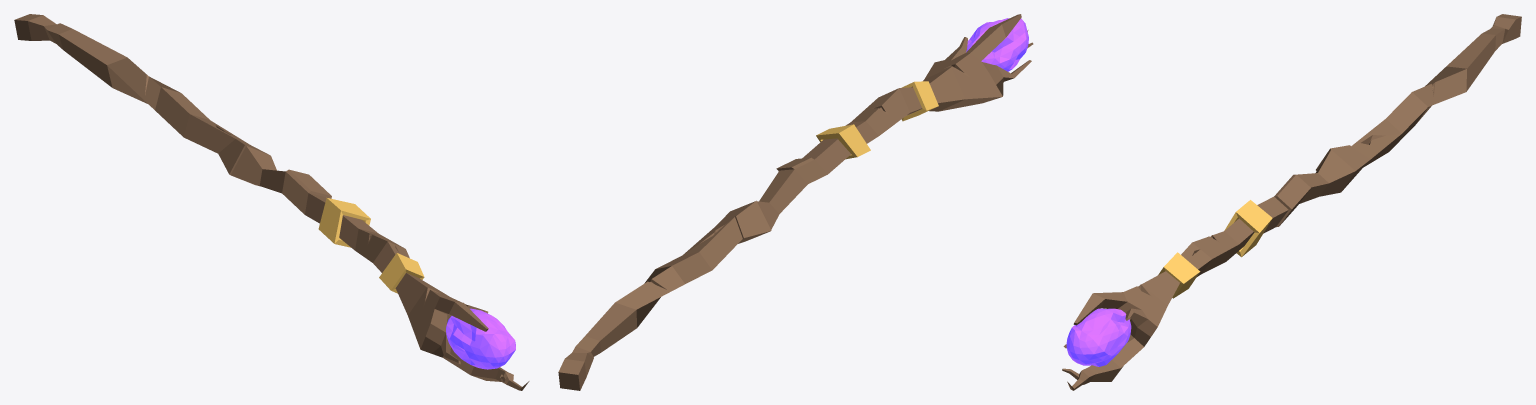
File: Wizard Staff.fbx
3 renders of one model, left to right at view 1: azimuth 30°, elevation 25°; view 2: azimuth 150°, elevation 25°; view 3: azimuth 330°, elevation 25°, orthographic. The views are drawn at different scales.
Visible parts, largest first — view 1: Cube; view 2: Cube; view 3: Cube.
Boxes of the visible parts, <box> form: Cube: <box>14,14,529,390</box>; Cube: <box>558,14,1033,390</box>; Cube: <box>1062,14,1521,390</box>.
Size of the model in its own units: 126 by 146 by 1583.
